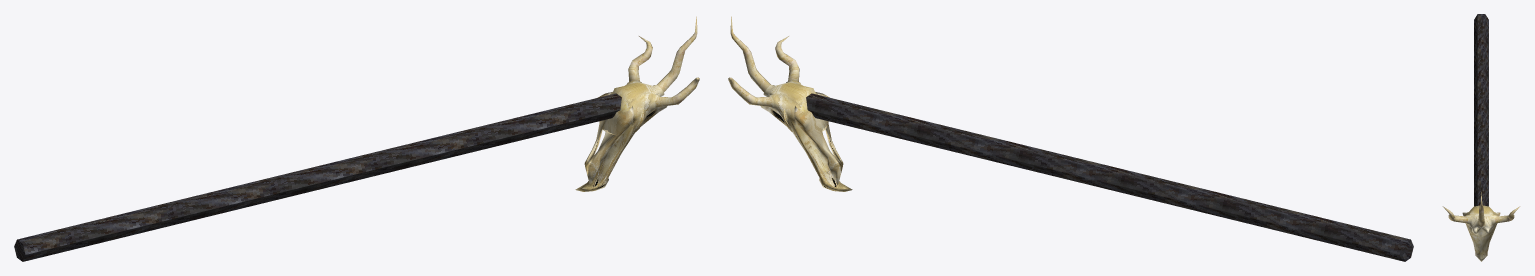
3 renders of one model, left to right at view 1: azimuth 30°, elevation 25°; view 2: azimuth 150°, elevation 25°; view 3: azimuth 270°, elevation 25°, orthographic. The views are drawn at different scales.
Visible parts, largest first — view 1: IT125_DMSPRITEDEF_node; view 2: IT125_DMSPRITEDEF_node; view 3: IT125_DMSPRITEDEF_node.
Part boxes in pixels (x1=…): IT125_DMSPRITEDEF_node: x1=14, y1=16, x2=699, y2=261; IT125_DMSPRITEDEF_node: x1=728, y1=16, x2=1413, y2=261; IT125_DMSPRITEDEF_node: x1=1442, y1=14, x2=1520, y2=261.
Size of the model in its own units: 7.08 by 1.52 by 1.07.
Materials: 4 (4 with a texture image).
